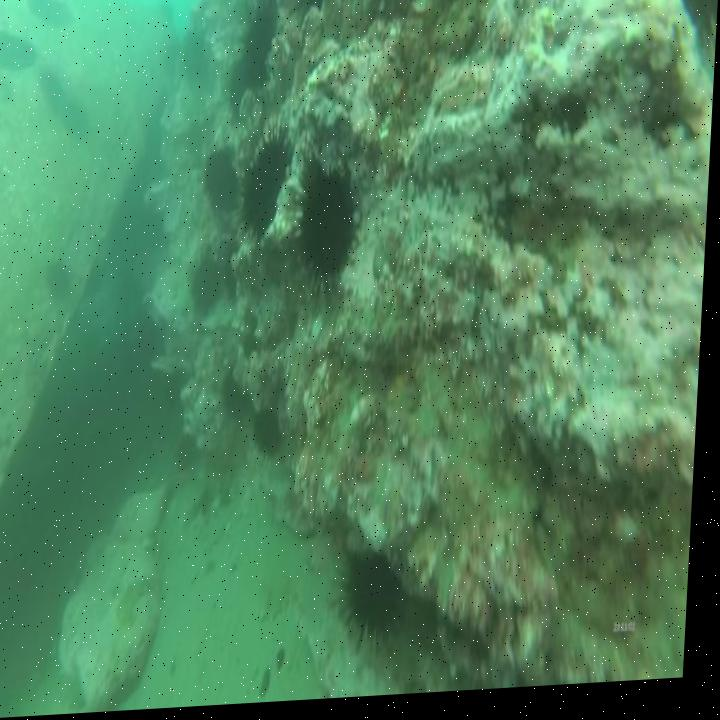echinus: (289, 143, 365, 317), (235, 121, 299, 248), (339, 550, 412, 653), (233, 1, 283, 78), (186, 248, 234, 328), (201, 139, 248, 214), (249, 402, 292, 471)
